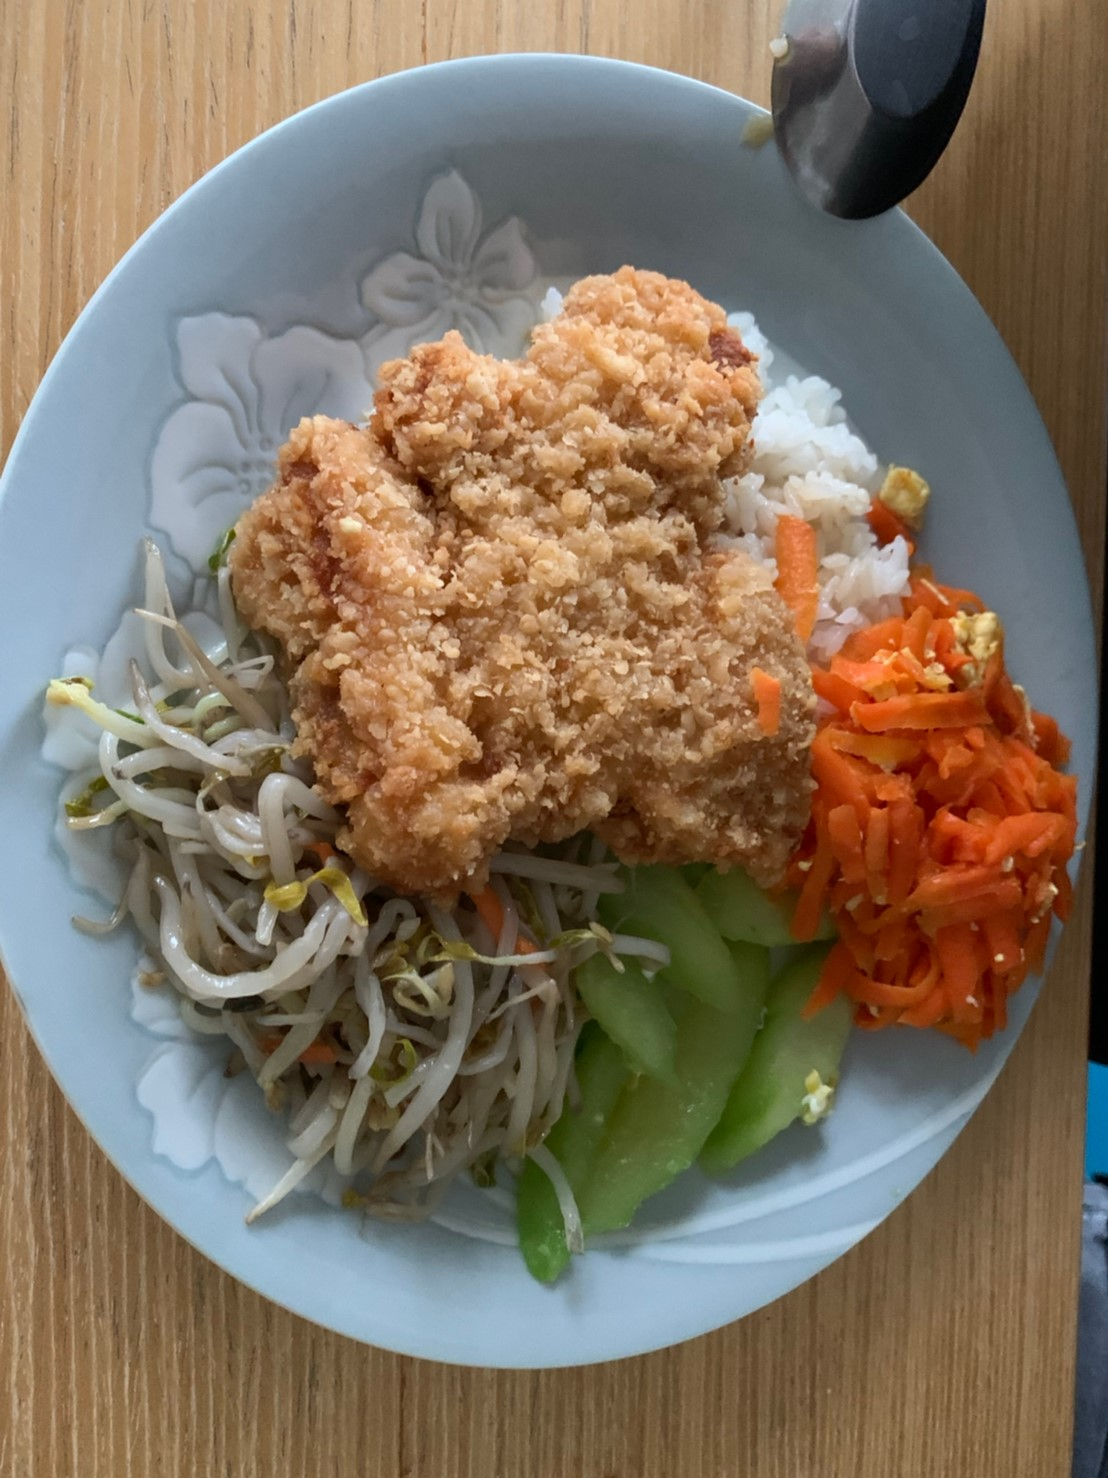carrot_eggs: (810, 606, 1077, 1052)
fried_chicken: (223, 264, 822, 886)
mung_bean_sprouts: (132, 850, 560, 1189)
rice: (724, 375, 889, 623)
